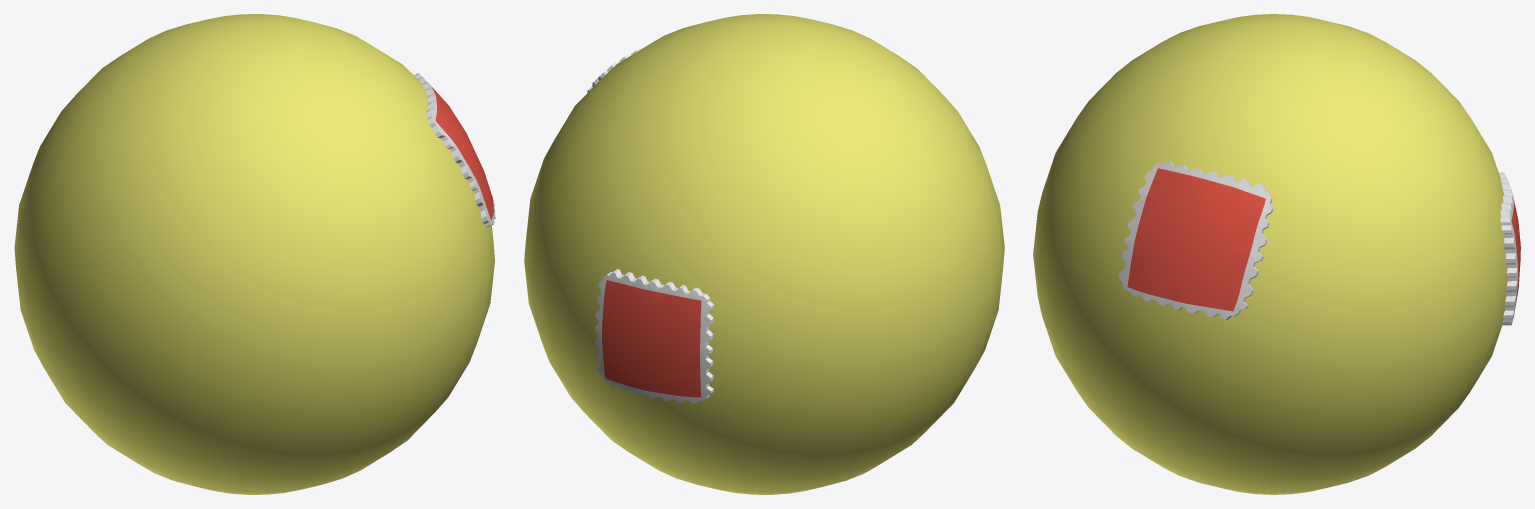
Rendered from sphere_two_stamp.fbx.
3 renders of one model, left to right at view 1: azimuth 30°, elevation 25°; view 2: azimuth 150°, elevation 25°; view 3: azimuth 270°, elevation 25°, orthographic.
Visible parts, largest first — view 1: Sphere, Cube.001; view 2: Sphere, Cube; view 3: Sphere, Cube.001, Cube.
Boxes of the visible parts, x1,y1,x2,y2 form: Sphere: (14, 14, 494, 494); Cube.001: (414, 73, 495, 227); Sphere: (524, 14, 1004, 494); Cube: (595, 269, 714, 403); Sphere: (1033, 14, 1508, 494); Cube.001: (1119, 161, 1273, 319); Cube: (1499, 172, 1520, 325).
Bounding box in the file's own units: 100 × 100 × 101.
